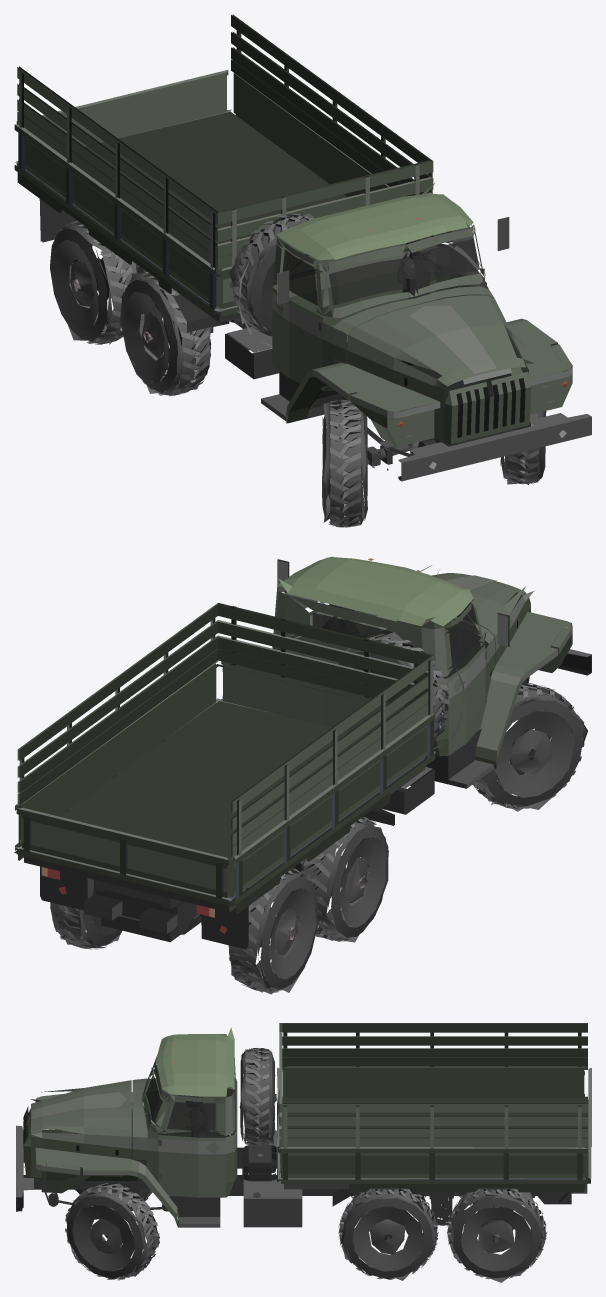
Rendered from vehicle---ural-truck-44202-dad03c.glb.
3 renders of one model, top to bottom at view 1: azimuth 30°, elevation 25°; view 2: azimuth 150°, elevation 25°; view 3: azimuth 270°, elevation 25°, orthographic. The views are drawn at different scales.
Visible parts, largest first — view 1: PropMesh; view 2: PropMesh; view 3: PropMesh.
Part boxes in pixels (box(x1,y1,x2,y2)): PropMesh: box(14, 14, 591, 527); PropMesh: box(14, 556, 591, 994); PropMesh: box(16, 1023, 591, 1282).
Bounding box in the file's own units: 0.3209 × 0.2919 × 0.8.
3 materials, 3 textured.
